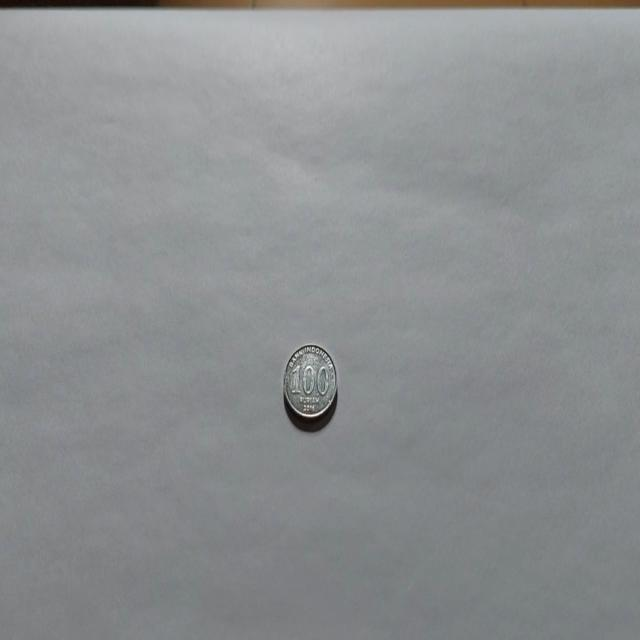seratus rupiah: (282, 341, 338, 426)
